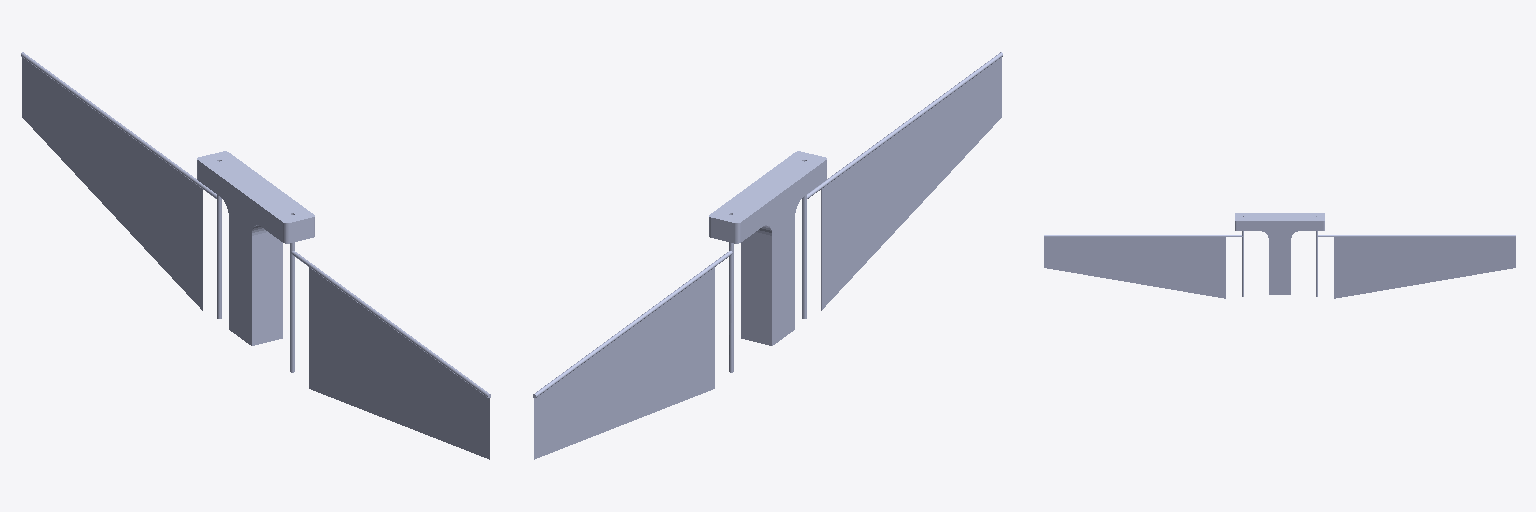
The robot description file, URDF, robot "newbird24":
<robot
  name="newbird24">
  <link
    name="base_link">
    <inertial>
      <origin
        xyz="1.7347E-18 -9.91E-19 1.7347E-18"
        rpy="0 0 0" />
      <mass
        value="0.0041228" />
      <inertia
        ixx="1.0216E-06"
        ixy="0"
        ixz="-5.9E-10"
        iyy="6.6458E-07"
        iyz="2.9E-10"
        izz="4.262E-07" />
    </inertial>
    <visual>
      <origin
        xyz="0 0 0"
        rpy="0 0 0" />
      <geometry>
        <mesh
          filename="./24meshes/base_link.STL" />
      </geometry>
      <material
        name="">
        <color
          rgba="0.79216 0.81961 0.93333 1" />
      </material>
    </visual>
    <collision>
      <origin
        xyz="0 0 0"
        rpy="0 0 0" />
      <geometry>
        <mesh
          filename="./24meshes/base_link.STL" />
      </geometry>
    </collision>
  </link>
  <link
    name="rr">
    <inertial>
      <origin
        xyz="-2.3263E-07 0.031358 -0.0090833"
        rpy="0 0 0" />
      <mass
        value="9.5877E-05" />
      <inertia
        ixx="3.5252E-07"
        ixy="0"
        ixz="0"
        iyy="4.795E-08"
        iyz="-2.537E-08"
        izz="3.2059E-07" />
    </inertial>
    <visual>
      <origin
        xyz="0 0 0"
        rpy="0 0 0" />
      <geometry>
        <mesh
          filename="./24meshes/rr.STL" />
      </geometry>
      <material
        name="">
        <color
          rgba="0.79216 0.81961 0.93333 1" />
      </material>
    </visual>
    <collision>
      <origin
        xyz="0 0 0"
        rpy="0 0 0" />
      <geometry>
        <mesh
          filename="./24meshes/rr.STL" />
      </geometry>
    </collision>
  </link>
  <joint
    name="rjs"
    type="continuous">
    <origin
      xyz="0 0.01625 0.0097428"
      rpy="0 0 0" />
    <parent
      link="base_link" />
    <child
      link="rr" />
    <axis
      xyz="0 0 1" />
    <limit
      lower="-1.57"
      upper="1.57"
      effort="0"
      velocity="0" />
  </joint>
  <link
    name="rw">
    <inertial>
      <origin
        xyz="7.5E-06 0.043056 -0.011667"
        rpy="0 0 0" />
      <mass
        value="1.2E-05" />
      <inertia
        ixx="3.681E-08"
        ixy="0"
        ixz="0"
        iyy="1.19E-09"
        iyz="-5.05E-09"
        izz="3.562E-08" />
    </inertial>
    <visual>
      <origin
        xyz="0 0 0"
        rpy="0 0 0" />
      <geometry>
        <mesh
          filename="./24meshes/rw.STL" />
      </geometry>
      <material
        name="">
        <color
          rgba="0.79216 0.81961 0.93333 1" />
      </material>
    </visual>
    <collision>
      <origin
        xyz="0 0 0"
        rpy="0 0 0" />
      <geometry>
        <mesh
          filename="./24meshes/rw.STL" />
      </geometry>
    </collision>
  </link>
  <joint
    name="rjr"
    type="continuous">
    <origin
      xyz="0 0 -0.0061999"
      rpy="0 0 0" />
    <parent
      link="rr" />
    <child
      link="rw" />
    <axis
      xyz="0 1 0" />
    <limit
      lower="-1.57"
      upper="1.57"
      effort="0"
      velocity="0" />
  </joint>
  <link
    name="lr">
    <inertial>
      <origin
        xyz="2.3263E-07 -0.031358 -0.0090833"
        rpy="0 0 0" />
      <mass
        value="9.5877E-05" />
      <inertia
        ixx="3.5238E-07"
        ixy="0"
        ixz="0"
        iyy="4.726E-08"
        iyz="2.518E-08"
        izz="3.2114E-07" />
    </inertial>
    <visual>
      <origin
        xyz="0 0 0"
        rpy="0 0 0" />
      <geometry>
        <mesh
          filename="./24meshes/lr.STL" />
      </geometry>
      <material
        name="">
        <color
          rgba="0.79216 0.81961 0.93333 1" />
      </material>
    </visual>
    <collision>
      <origin
        xyz="0 0 0"
        rpy="0 0 0" />
      <geometry>
        <mesh
          filename="./24meshes/lr.STL" />
      </geometry>
    </collision>
  </link>
  <joint
    name="ljs"
    type="continuous">
    <origin
      xyz="0 -0.01625 0.00974"
      rpy="0 0 0" />
    <parent
      link="base_link" />
    <child
      link="lr" />
    <axis
      xyz="0 0 1" />
    <limit
      lower="-1.57"
      upper="1.57"
      effort="0"
      velocity="0" />
  </joint>
  <link
    name="lw">
    <inertial>
      <origin
        xyz="-7.5E-06 -0.043056 -0.011667"
        rpy="0 0 0" />
      <mass
        value="1.2E-05" />
      <inertia
        ixx="3.681E-08"
        ixy="0"
        ixz="0"
        iyy="1.19E-09"
        iyz="5.05E-09"
        izz="3.562E-08" />
    </inertial>
    <visual>
      <origin
        xyz="0 0 0"
        rpy="0 0 0" />
      <geometry>
        <mesh
          filename="./24meshes/lw.STL" />
      </geometry>
      <material
        name="">
        <color
          rgba="0.79216 0.81961 0.93333 1" />
      </material>
    </visual>
    <collision>
      <origin
        xyz="0 0 0"
        rpy="0 0 0" />
      <geometry>
        <mesh
          filename="./24meshes/lw.STL" />
      </geometry>
    </collision>
  </link>
  <joint
    name="ljr"
    type="continuous">
    <origin
      xyz="0 0 -0.0061999"
      rpy="0 0 0" />
    <parent
      link="lr" />
    <child
      link="lw" />
    <axis
      xyz="0 -1 0" />
    <limit
      lower="-1.57"
      upper="1.57"
      effort="0"
      velocity="0" />
  </joint>
</robot>

--- Render facts (derived) ---
Views: 3 orthographic renders of the robot side by side, from view 1: azimuth 30°, elevation 25°; view 2: azimuth 150°, elevation 25°; view 3: azimuth 270°, elevation 25°.
Model newbird24 with 5 links and 4 joints (4 continuous), rooted at base_link, posed every joint at zero.
Visible links, largest first — view 1: lw, rw, base_link, lr, rr; view 2: lw, rw, base_link, rr, lr; view 3: rw, lw, base_link, rr, lr.
Link boxes in pixels (bbox=[...]): lw: bbox=[309, 267, 489, 459]; rw: bbox=[22, 57, 202, 310]; base_link: bbox=[197, 151, 314, 345]; lr: bbox=[290, 242, 490, 397]; rr: bbox=[21, 52, 221, 318]; lw: bbox=[821, 57, 1001, 310]; rw: bbox=[534, 267, 714, 459]; base_link: bbox=[709, 151, 826, 345]; rr: bbox=[533, 242, 733, 397]; lr: bbox=[802, 52, 1002, 318]; rw: bbox=[1334, 237, 1515, 298]; lw: bbox=[1044, 237, 1225, 298]; base_link: bbox=[1235, 213, 1324, 294]; rr: bbox=[1316, 231, 1515, 296]; lr: bbox=[1044, 231, 1243, 296].
Bounding box of the posed robot: 0.008 × 0.2075 × 0.0398 m (x, y, z).
Meshes: 5 distinct files referenced, 5 mesh visuals loaded (5 binary STL).
